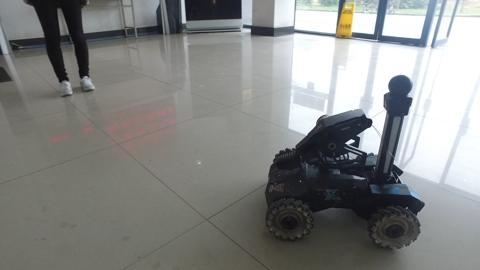chariot: (263, 72, 425, 252)
